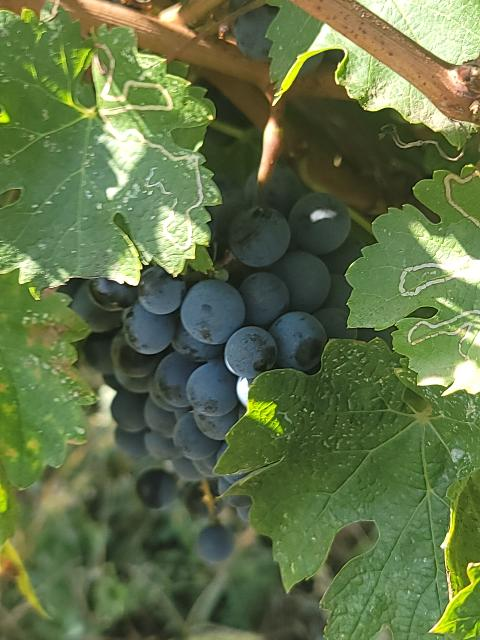grapes: (72, 171, 351, 482)
